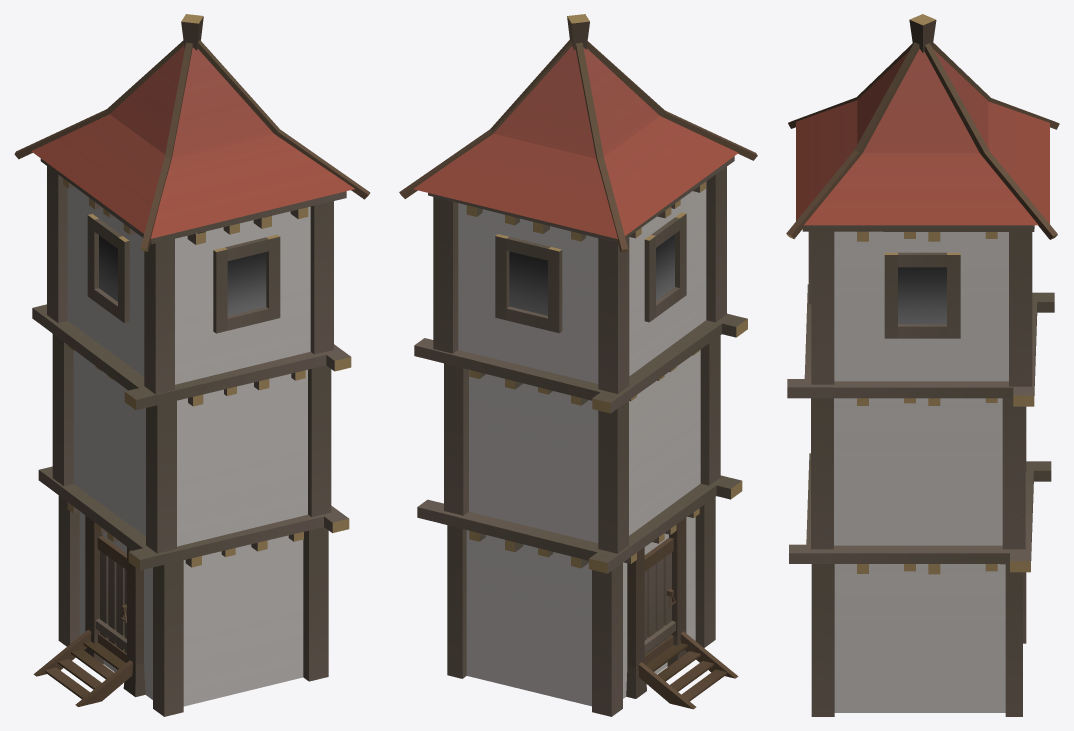
The model's file is House_13_LOD1.fbx.
3 views of the same model, side by side, from view 1: azimuth 30°, elevation 25°; view 2: azimuth 150°, elevation 25°; view 3: azimuth 270°, elevation 25° (orthographic). The views are drawn at different scales.
Visible parts, largest first — view 1: polySurface9622; view 2: polySurface9622; view 3: polySurface9622.
Boxes of the visible parts, x1,y1,x2,y2 form: polySurface9622: (14,14,370,716); polySurface9622: (399,14,757,716); polySurface9622: (786,14,1059,716).
Size of the model in its own units: 499 by 1206 by 456.
